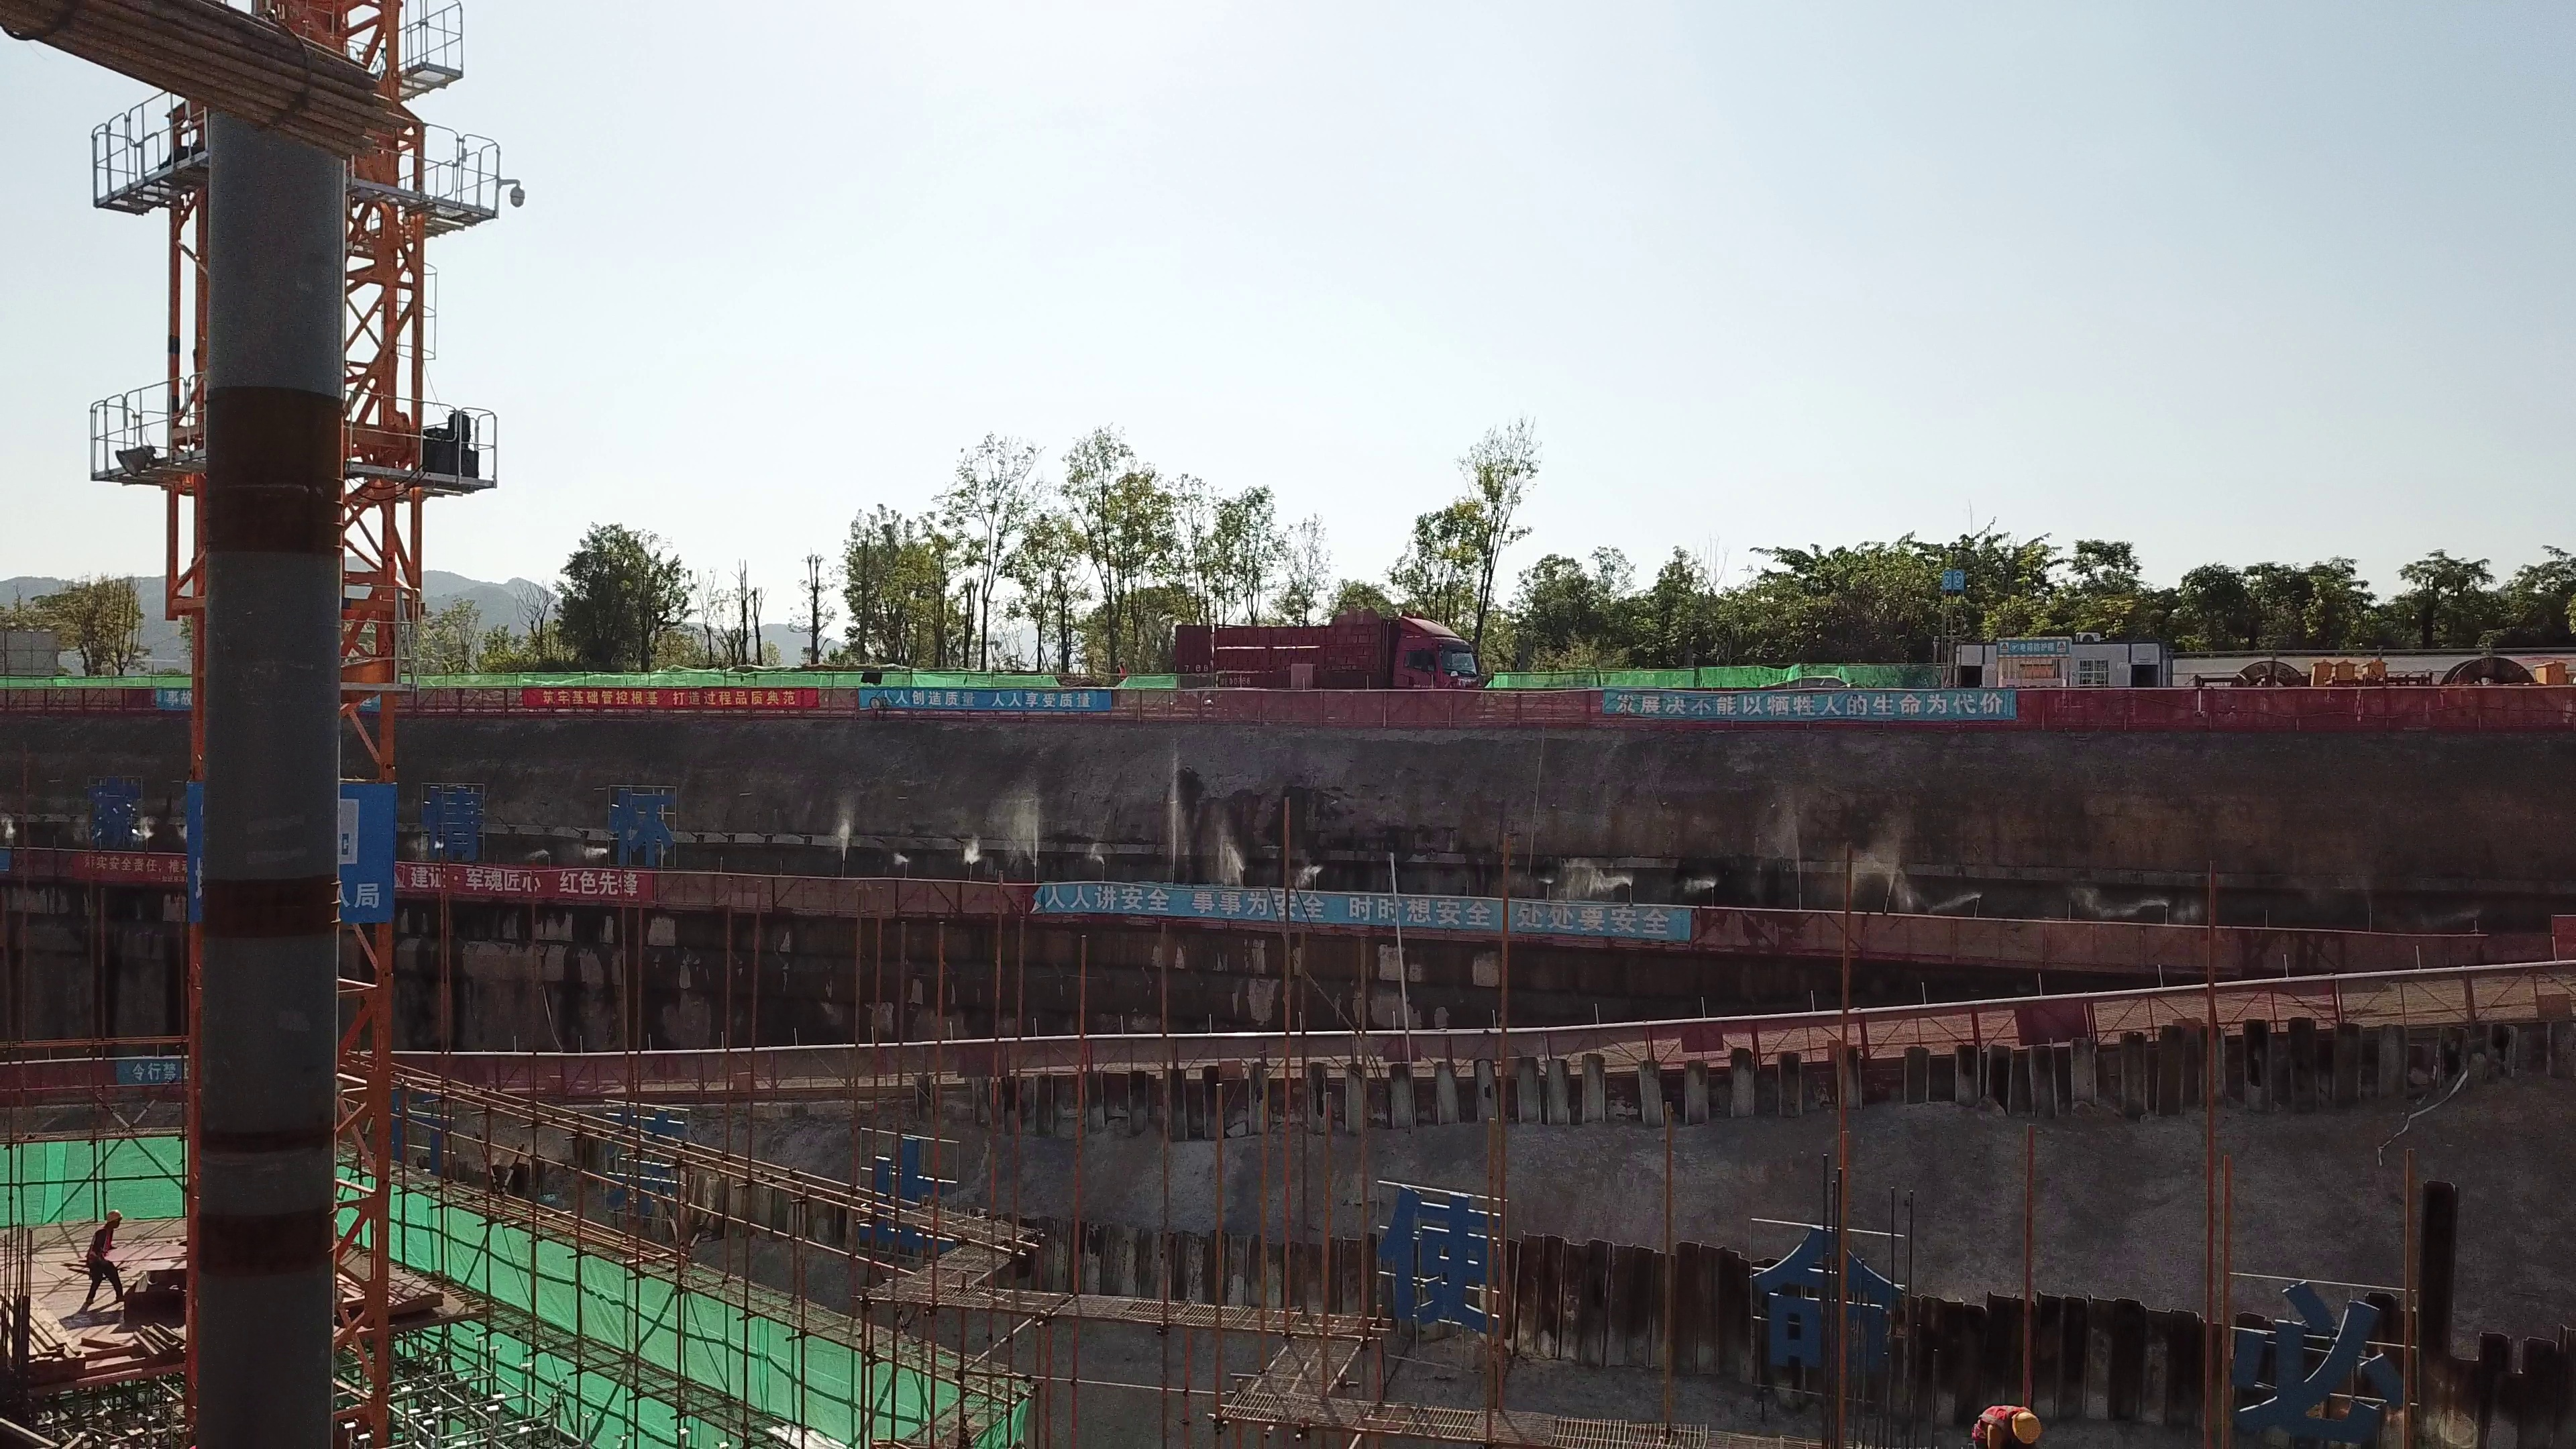fence: (2155, 963, 2539, 1044), (1091, 1022, 1654, 1078), (1700, 906, 2155, 973), (2023, 690, 2561, 736), (1121, 688, 1601, 732), (654, 867, 1027, 920), (1866, 998, 2152, 1061), (2157, 920, 2480, 973), (1647, 1014, 1866, 1069)
helmet: (106, 1211, 123, 1222)
person: (66, 1203, 139, 1336)
slogan: (1028, 879, 1691, 939), (1603, 690, 2022, 720), (391, 858, 652, 899), (521, 684, 821, 713), (857, 690, 1116, 713), (65, 851, 191, 886)
vest: (1966, 1393, 2021, 1442), (88, 1227, 117, 1263)
